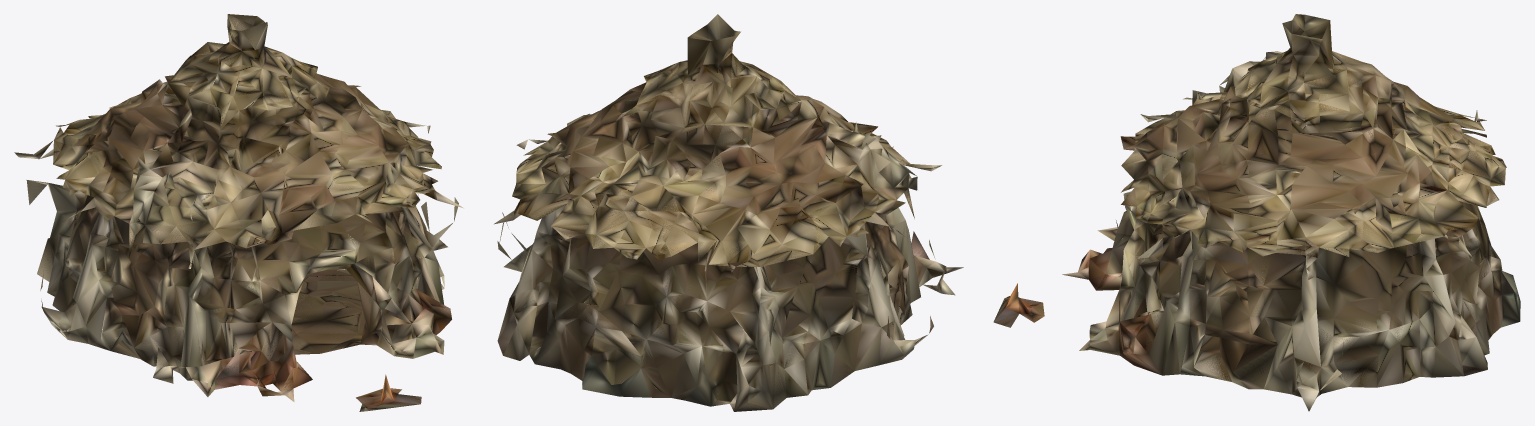
File: knochenhuette.glb
The picture shows the model from 3 angles, left to right: view 1: azimuth 30°, elevation 25°; view 2: azimuth 150°, elevation 25°; view 3: azimuth 270°, elevation 25°; orthographic projection. The views are drawn at different scales.
Size of the model in its own units: 1.77 by 1.16 by 1.89.
Materials: 1 (1 with a texture image).
